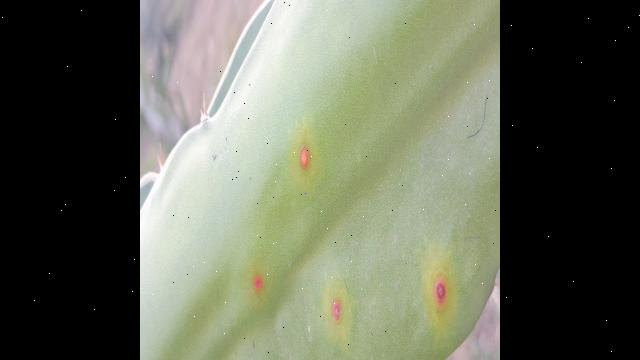stemcanker: (422, 262, 459, 328), (287, 130, 325, 182), (320, 283, 354, 336), (242, 263, 280, 304)
